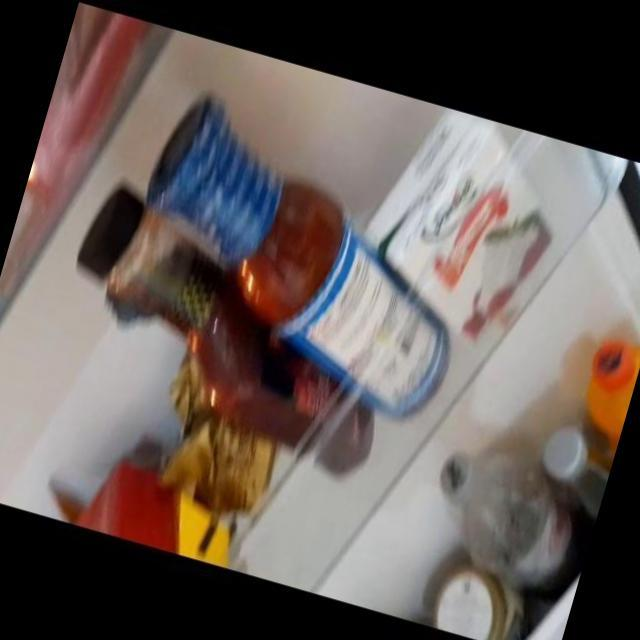cream cheese: (375, 147, 559, 325)
sauce: (58, 194, 405, 457), (137, 113, 392, 334)
